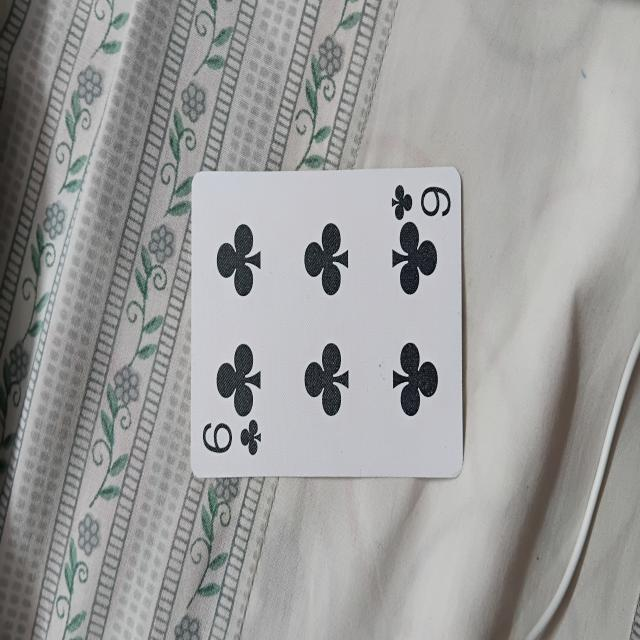6C: (192, 174, 464, 473)
